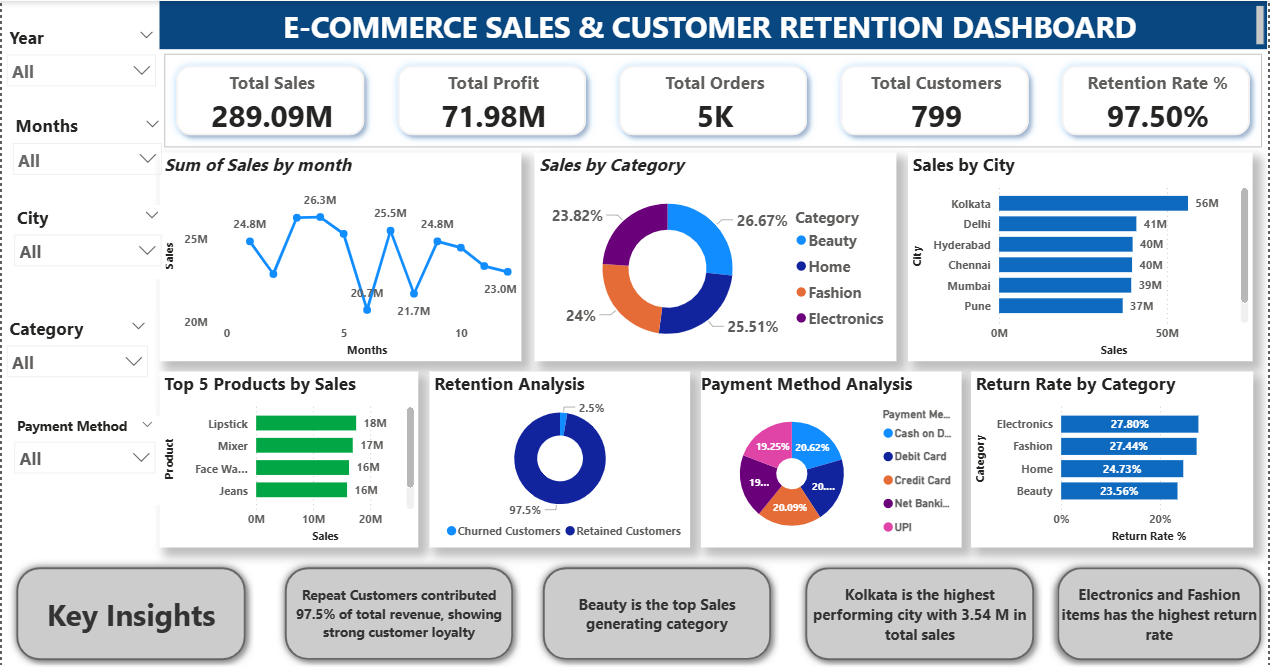

This screenshot's page, from the dashboard's own definition file:
{"tool":"powerbi","page":{"name":"Sales Trends Analysis","canvas":[1368,720],"ordinal":0},"visuals":[{"type":"cardVisual","fields":{"Data":["project cleaned_data.Total Sales","project cleaned_data.Total Profit","project cleaned_data.Total Orders","project cleaned_data.Total Customers","project cleaned_data.Retention Rate %"]},"box":[170,52.2,1196.9,111.1],"z":0},{"type":"textbox","box":[170,0,1196.9,52.2],"z":1000},{"type":"lineChart","fields":{"Category":["project cleaned_data.month"],"Y":["Sum(project cleaned_data.Sales)"]},"box":[170,163.3,390.5,225.6],"z":3000},{"type":"donutChart","title":"Sales by Category","fields":{"Category":["project cleaned_data.Category"],"Y":["Sum(project cleaned_data.Sales)"]},"box":[574,163.3,390.5,225.6],"z":4000},{"type":"clusteredBarChart","title":"Sales by City","fields":{"Category":["project cleaned_data.City"],"Y":["Sum(project cleaned_data.Sales)"]},"box":[978,163.3,372,225.6],"z":5000},{"type":"barChart","title":"Top 5 Products by Sales","fields":{"Category":["project cleaned_data.Product"],"Y":["Sum(project cleaned_data.Sales)"]},"box":[170,400.6,279.4,190.2],"z":6000},{"type":"donutChart","title":"Retention Analysis","fields":{"Y":["project cleaned_data.Churned Customers","project cleaned_data.Retained Customers"]},"box":[461.2,400.6,281.1,190.2],"z":7000},{"type":"donutChart","title":"Payment Method Analysis","fields":{"Category":["project cleaned_data.Payment_Method"],"Y":["project cleaned_data.Total Orders"]},"box":[754.1,400.6,281.1,190.2],"z":8000},{"type":"clusteredBarChart","title":"Return Rate by Category","fields":{"Category":["project cleaned_data.Category"],"Y":["project cleaned_data.Return Rate %"]},"box":[1045.4,400.6,304.7,190.2],"z":9000},{"type":"slicer","fields":{"Values":["project cleaned_data.year"]},"box":[0,26,171,82.3],"z":10000},{"type":"slicer","fields":{"Values":["project cleaned_data.month"]},"box":[6.5,121.2,171,82.3],"z":10001},{"type":"slicer","fields":{"Values":["project cleaned_data.City"]},"box":[8.7,220.8,168.8,80.1],"z":10002},{"type":"slicer","fields":{"Values":["project cleaned_data.Category"]},"box":[0,339.8,162.3,95.2],"z":10003},{"type":"slicer","fields":{"Values":["project cleaned_data.Payment_Method"]},"box":[8.7,448.1,162.3,95.2],"z":10004},{"type":"shape","box":[6.5,602.4,265.6,118.2],"z":10005},{"type":"shape","box":[296.3,602.6,264.3,117.8],"z":10006},{"type":"shape","box":[574,602.6,264.3,117.8],"z":10007},{"type":"shape","box":[858.2,602.4,265,118.2],"z":10008},{"type":"shape","box":[1130.2,602.4,238,118.2],"z":10009}]}

Visuals, with their boxes in screenshot pixels (x1, y1, x2, y2), scaled from the page's 1368x720 canvas onto the 1270x667 screenshot:
cardVisual - project cleaned_data.Total Sales x project cleaned_data.Total Profit: <bbox>158, 48, 1269, 151</bbox>
textbox: <bbox>158, 0, 1269, 48</bbox>
lineChart - project cleaned_data.month x Sum(project cleaned_data.Sales): <bbox>158, 151, 520, 360</bbox>
"Sales by Category" donutChart: <bbox>533, 151, 895, 360</bbox>
"Sales by City" clusteredBarChart: <bbox>908, 151, 1253, 360</bbox>
"Top 5 Products by Sales" barChart: <bbox>158, 371, 417, 547</bbox>
"Retention Analysis" donutChart: <bbox>428, 371, 689, 547</bbox>
"Payment Method Analysis" donutChart: <bbox>700, 371, 961, 547</bbox>
"Return Rate by Category" clusteredBarChart: <bbox>971, 371, 1253, 547</bbox>
slicer - project cleaned_data.year: <bbox>0, 24, 159, 100</bbox>
slicer - project cleaned_data.month: <bbox>6, 112, 165, 189</bbox>
slicer - project cleaned_data.City: <bbox>8, 205, 165, 279</bbox>
slicer - project cleaned_data.Category: <bbox>0, 315, 151, 403</bbox>
slicer - project cleaned_data.Payment_Method: <bbox>8, 415, 159, 503</bbox>
shape: <bbox>6, 558, 253, 666</bbox>
shape: <bbox>275, 558, 520, 666</bbox>
shape: <bbox>533, 558, 778, 666</bbox>
shape: <bbox>797, 558, 1043, 666</bbox>
shape: <bbox>1049, 558, 1269, 666</bbox>
